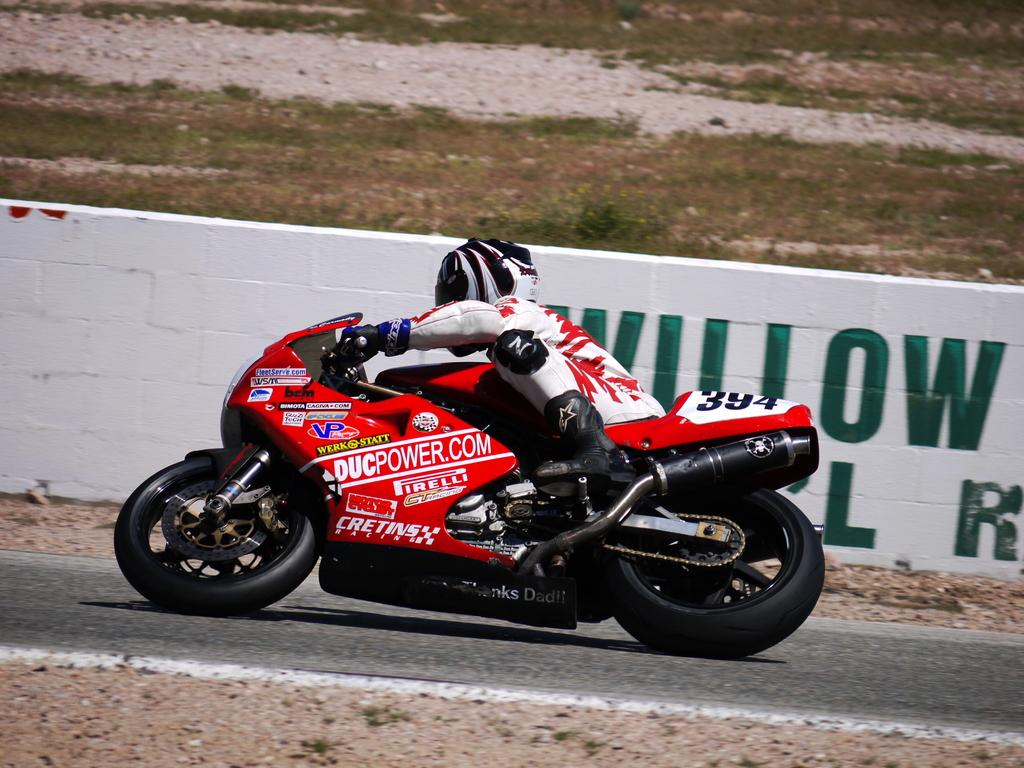helmet: (434, 238, 540, 358)
